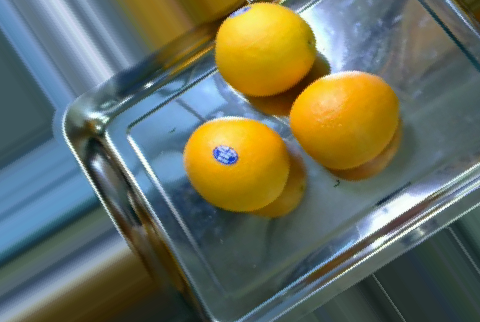Orange: (286, 70, 398, 170), (181, 115, 289, 211), (212, 2, 317, 95)
